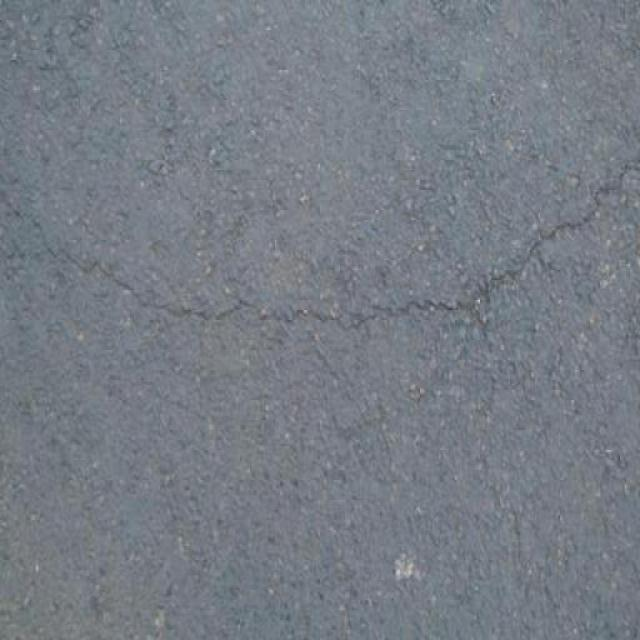Crack: (0, 124, 639, 360)
